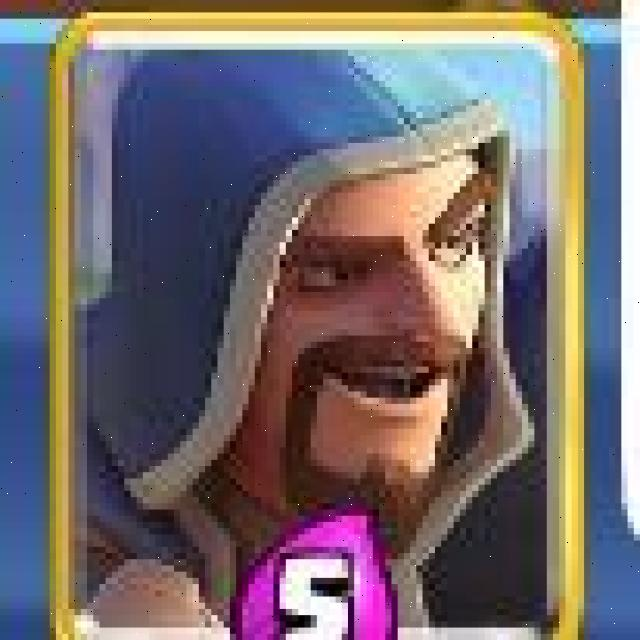Wizard: (53, 14, 581, 640)
